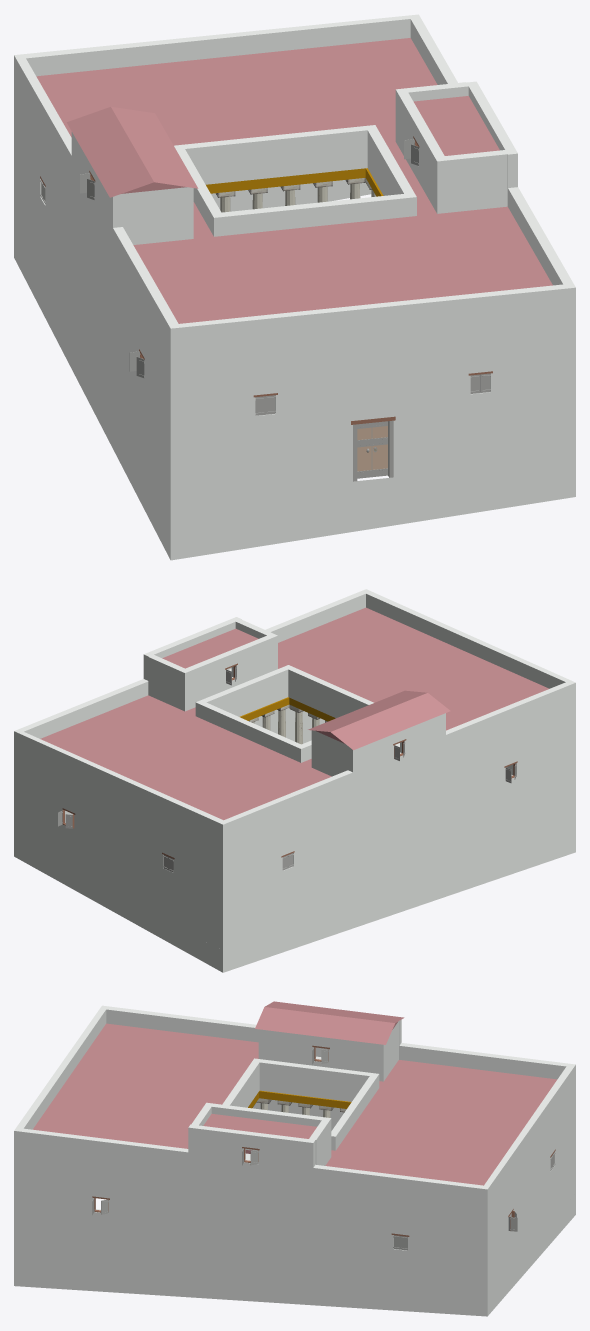
File: LOD_Block_3_77.glb
The picture shows the model from 3 angles, top to bottom: view 1: azimuth 30°, elevation 25°; view 2: azimuth 150°, elevation 25°; view 3: azimuth 270°, elevation 25°; orthographic projection. The views are drawn at different scales.
Visible parts, largest first — view 1: _1.5024; view 2: _1.5024; view 3: _1.5024.
Part boxes in pixels (box(x1,y1,x2,y2)): _1.5024: box(14, 14, 575, 560); _1.5024: box(14, 589, 575, 972); _1.5024: box(14, 1001, 575, 1316).
Bounding box in the file's own units: 28.08 × 14.55 × 36.27.
Materials: 3 (3 with a texture image).
